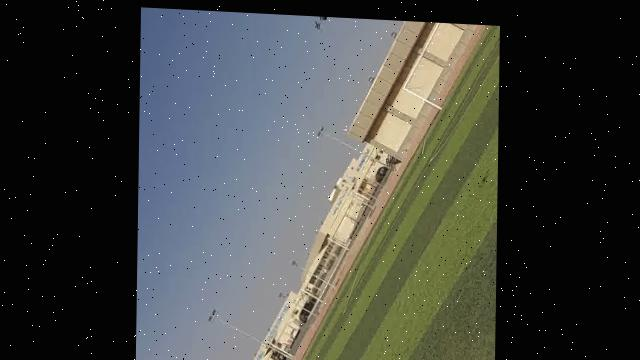drone: (307, 13, 333, 30)
